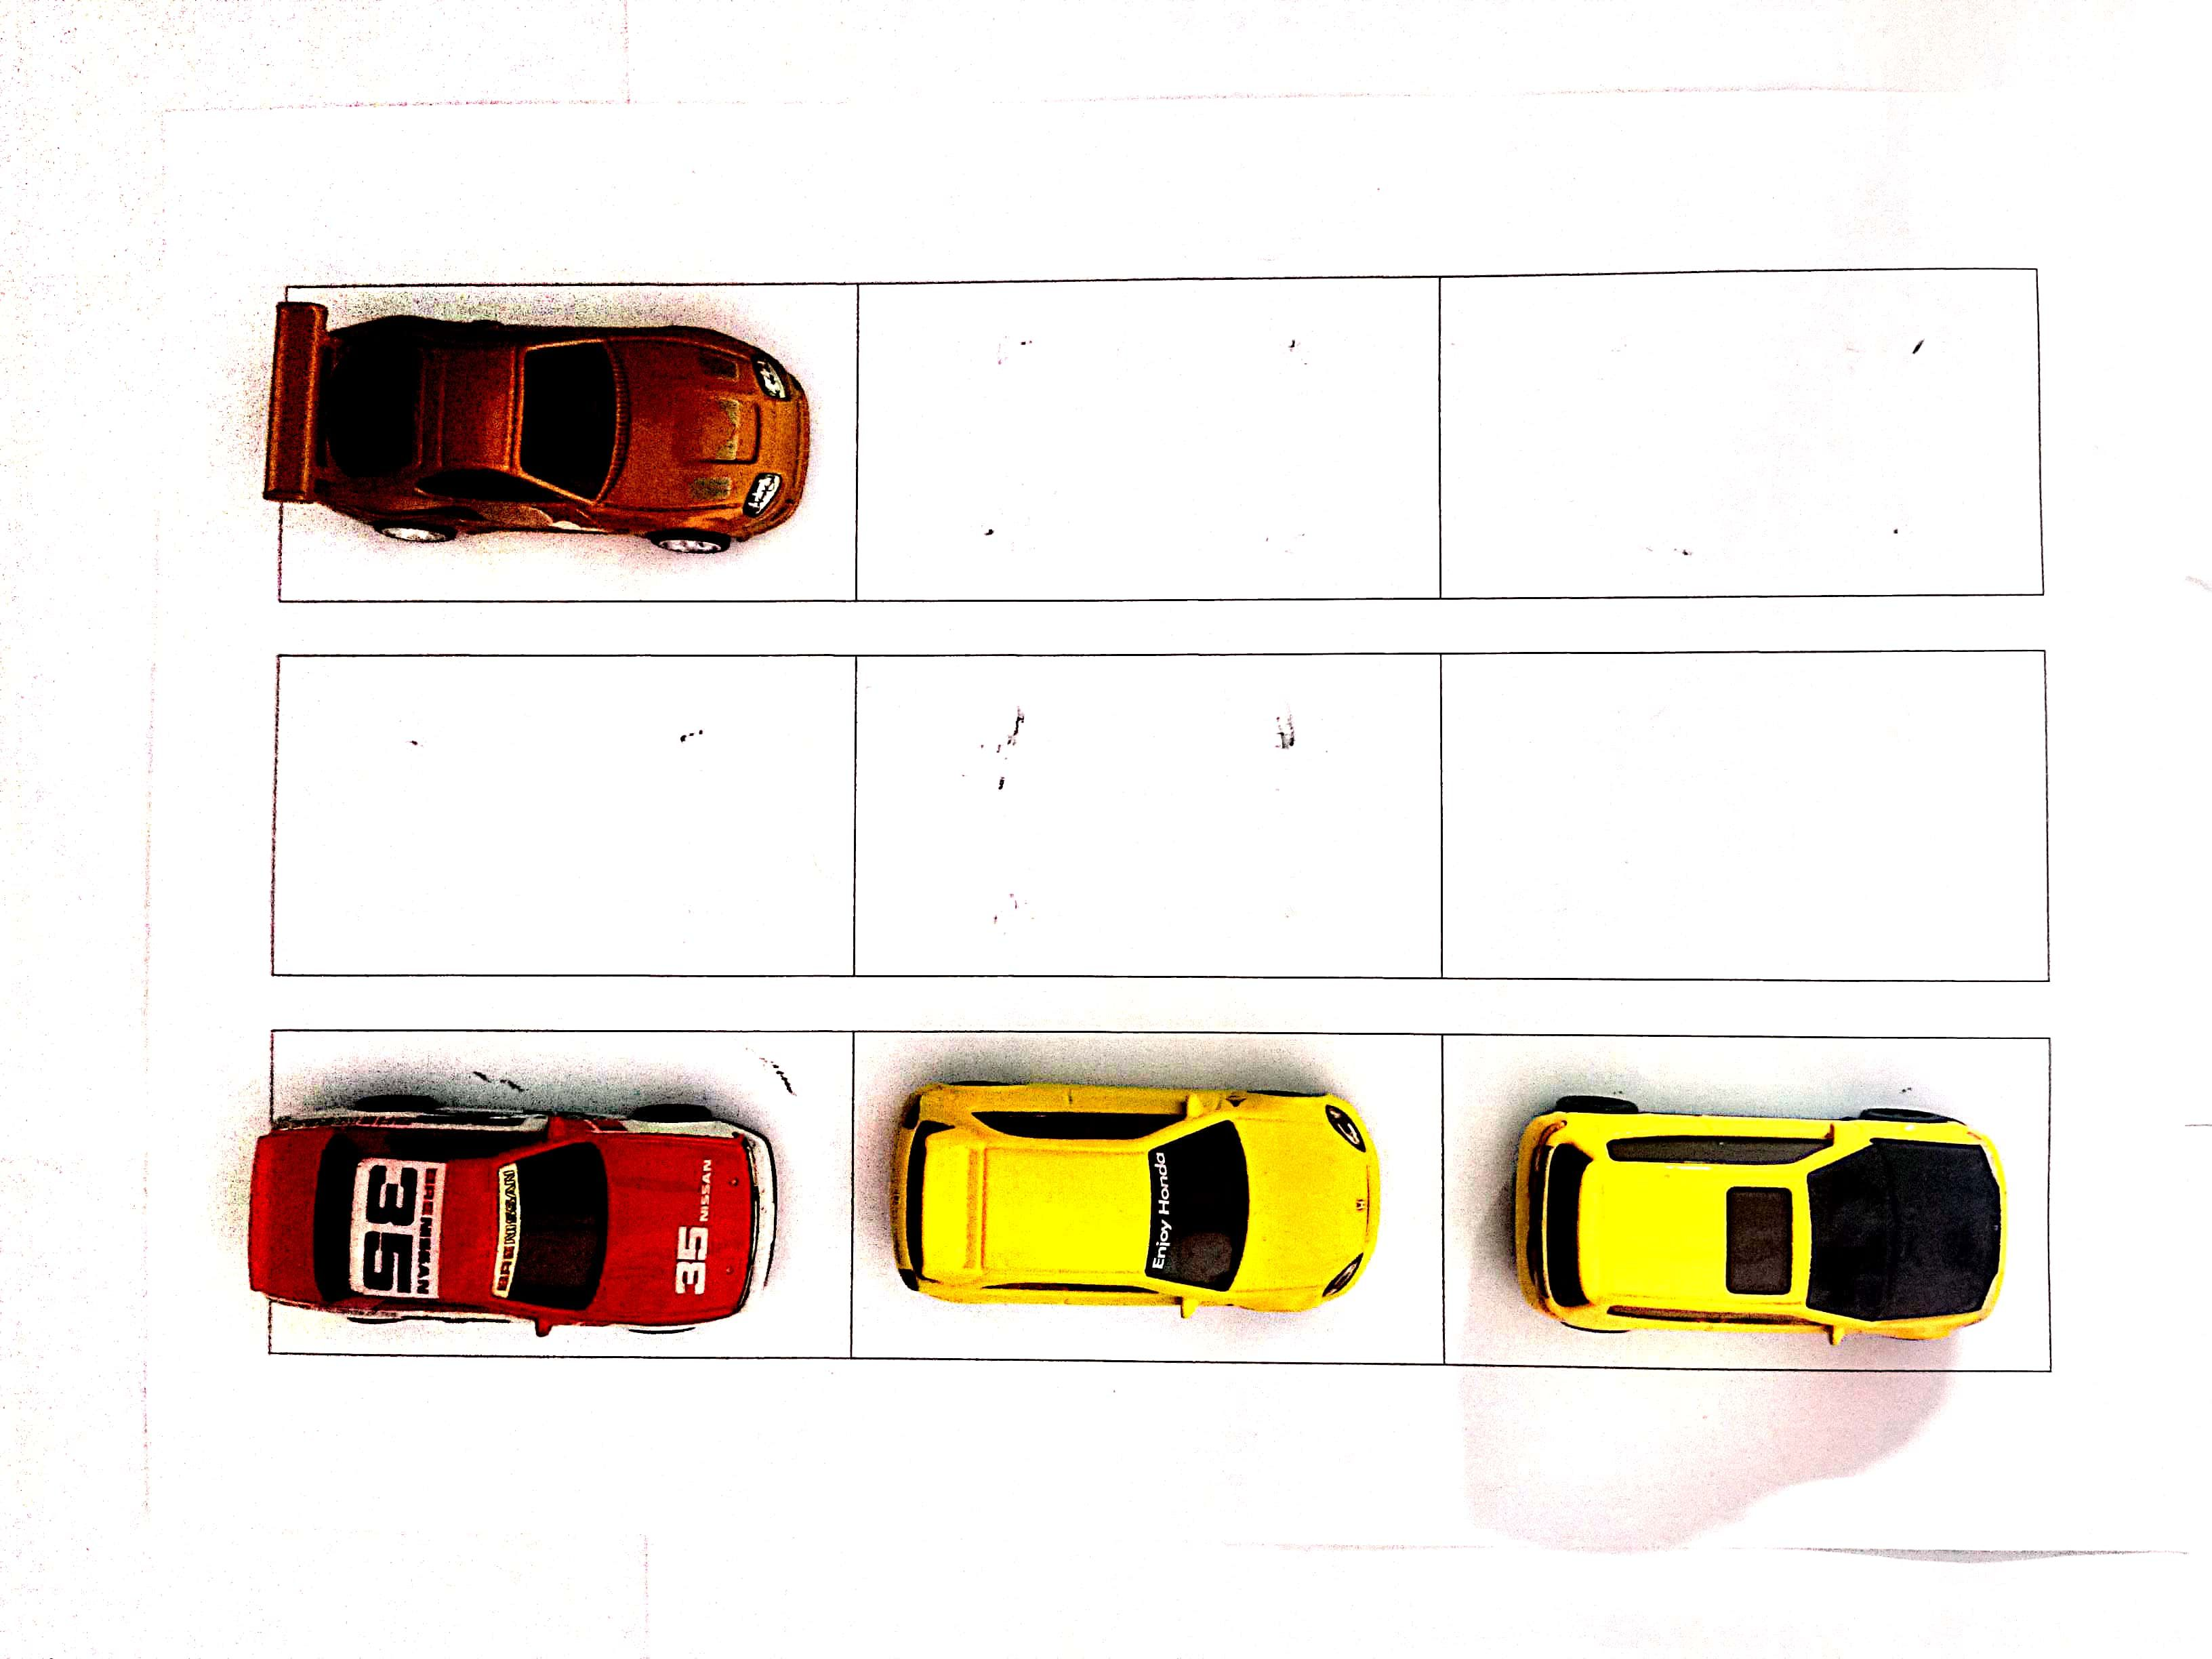Busy: (1442, 1040, 2055, 1358), (261, 1026, 845, 1354), (852, 1037, 1442, 1354), (268, 289, 853, 601)
Free: (1442, 263, 2033, 603), (848, 657, 1446, 983), (1454, 648, 2045, 971), (270, 648, 848, 971), (860, 281, 1440, 598)
